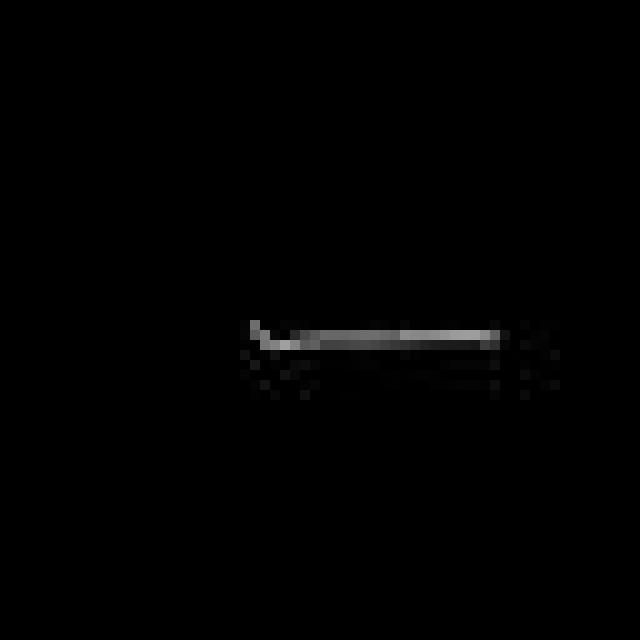1 -one-: (240, 308, 506, 366)
